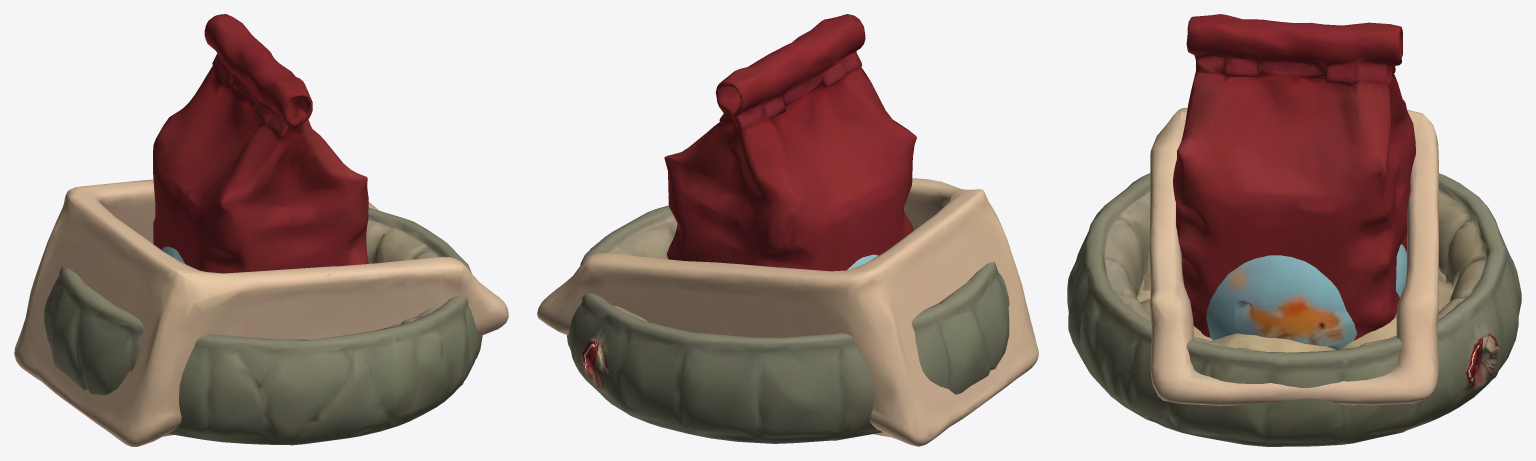
The model's file is veterinaire.glb.
The picture shows the model from 3 angles, left to right: view 1: azimuth 30°, elevation 25°; view 2: azimuth 150°, elevation 25°; view 3: azimuth 270°, elevation 25°; orthographic projection. The views are drawn at different scales.
Parts seen in each view (by area): view 1: litiere, panier-chat, croquettes-chien; view 2: croquettes-chien, litiere, panier-chat; view 3: croquettes-chien, panier-chat, litiere, bocal-poisson.
Boxes of the visible parts, x1,y1,x2,y2 form: litiere: [14, 179, 508, 446]; panier-chat: [44, 207, 482, 445]; croquettes-chien: [153, 14, 368, 273]; croquettes-chien: [664, 14, 916, 271]; litiere: [537, 178, 1038, 446]; panier-chat: [567, 205, 1009, 443]; croquettes-chien: [1173, 14, 1415, 340]; panier-chat: [1067, 173, 1521, 446]; litiere: [1149, 108, 1439, 405]; bocal-poisson: [1206, 244, 1406, 349].
Bounding box in the file's own units: 0.5 × 0.4 × 0.4864.
Materials: 2 (2 with a texture image).
